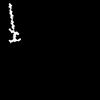double_crochet: (9, 4, 20, 41)
